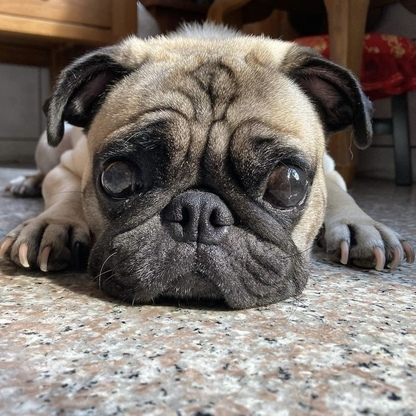Pug: (1, 13, 416, 315)
